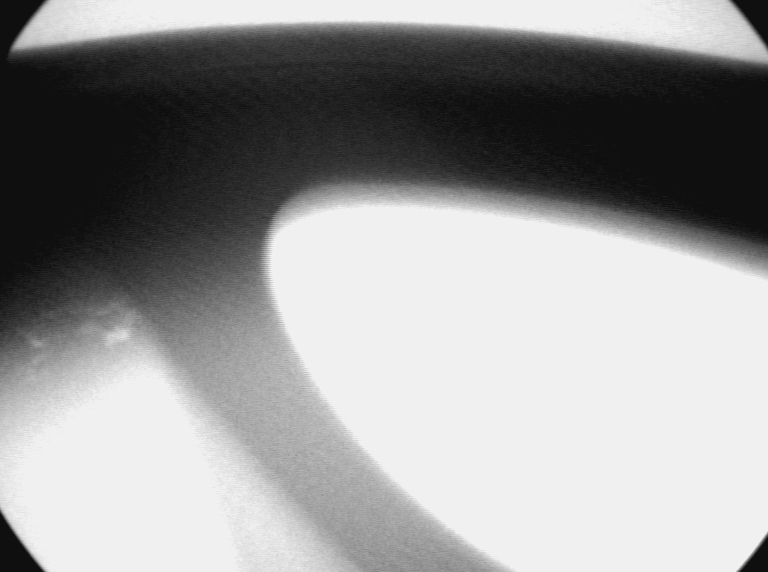defect: (18, 290, 145, 374)
